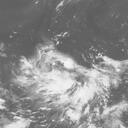cyclone: (36, 47, 93, 108)
